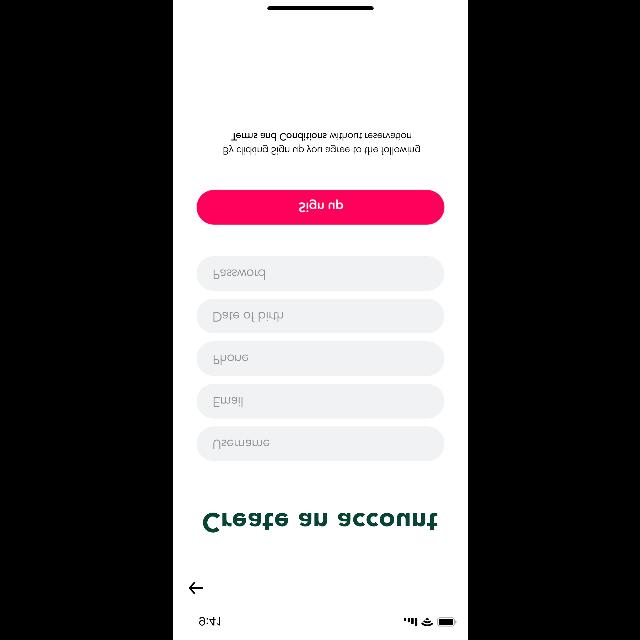icon: (188, 582, 202, 594)
input: (196, 256, 444, 290), (196, 299, 444, 333), (196, 341, 444, 375), (196, 384, 444, 418), (196, 426, 444, 460)
text: (222, 132, 420, 156), (202, 512, 438, 532), (212, 312, 282, 322), (213, 439, 269, 449), (213, 269, 265, 279), (212, 354, 248, 364), (212, 397, 242, 407)
textbutton: (196, 190, 444, 224)
uppertaskbar: (198, 616, 456, 626)
